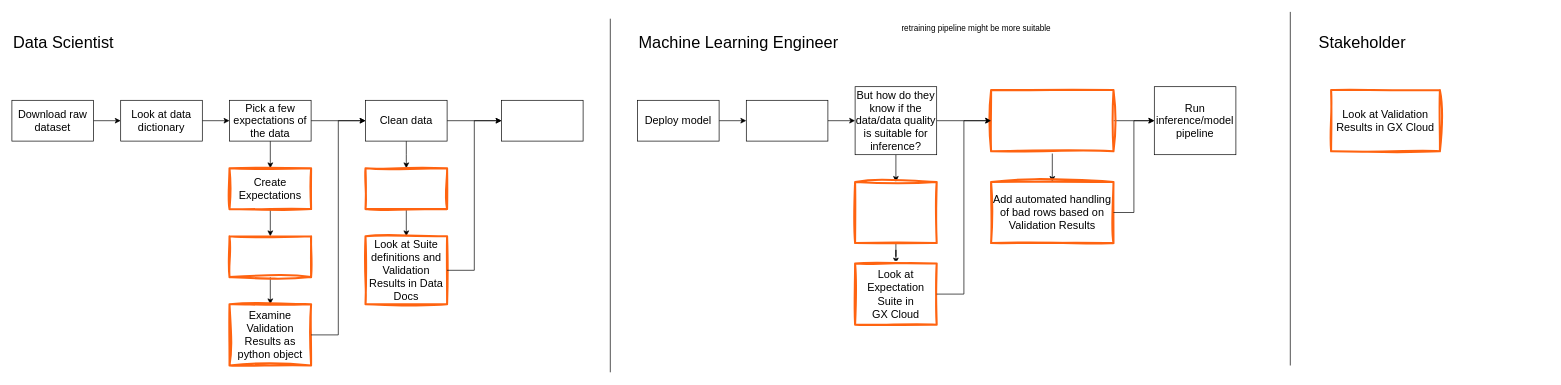
This 1561x385 diagram has some shape labels left out. The box of each missing label's shape, as (x1, y1, x2, y2) in pixels:
Add pipeline/deployment check using shared Expectation Suite: (990, 89, 1114, 152)
Create Expectations for training data: (364, 167, 448, 210)
Download set of data for inference: (746, 100, 828, 141)
The need for the data scientist's Expectation Suite: (854, 181, 937, 244)
Train simple model: (501, 100, 583, 141)
Validate raw data with Expectations: (228, 235, 312, 278)
